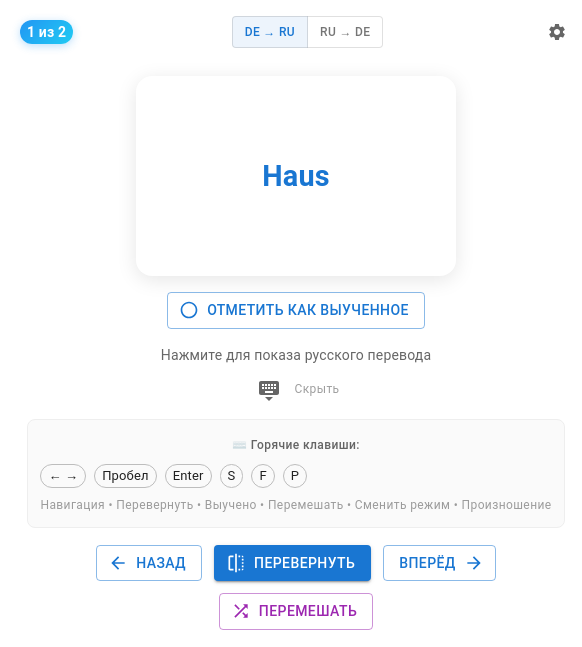
Test: UniversalCardViewer keyboard shortcuts › enter on button runs button action only
Step 1. Click the button "Перевернуть" → (293, 563), box [214,544,371,581]
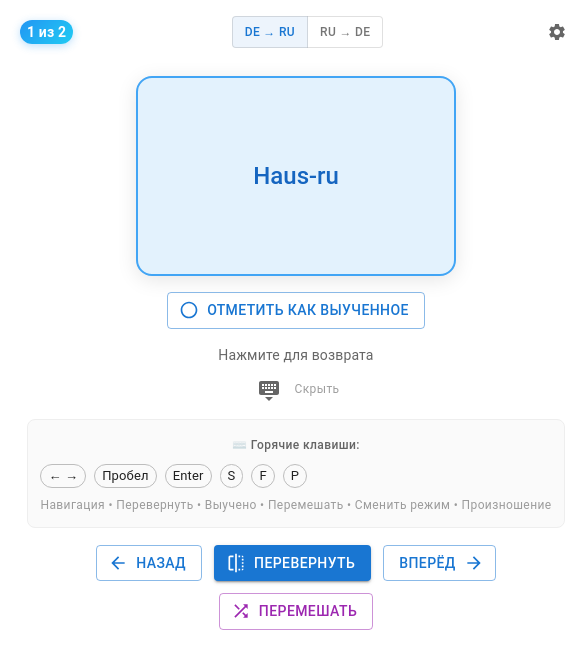
Check: the text "Нажмите для возврата" is shown, box [218,346,374,362]
Step 2. Press Enter
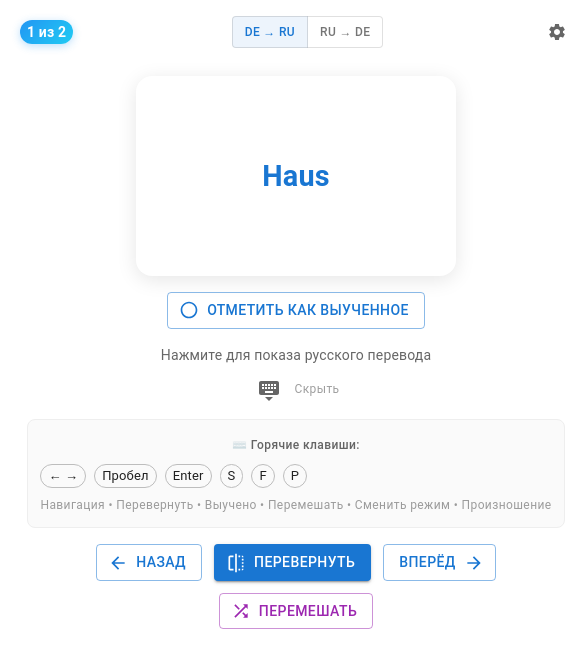
Check: the text "Нажмите для показа русского перевода" is shown, box [161,346,431,362]
